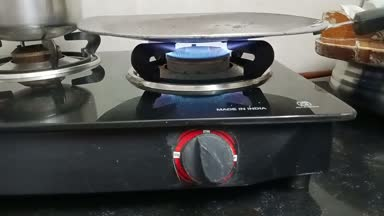flame_gas_on: (142, 40, 267, 187)
